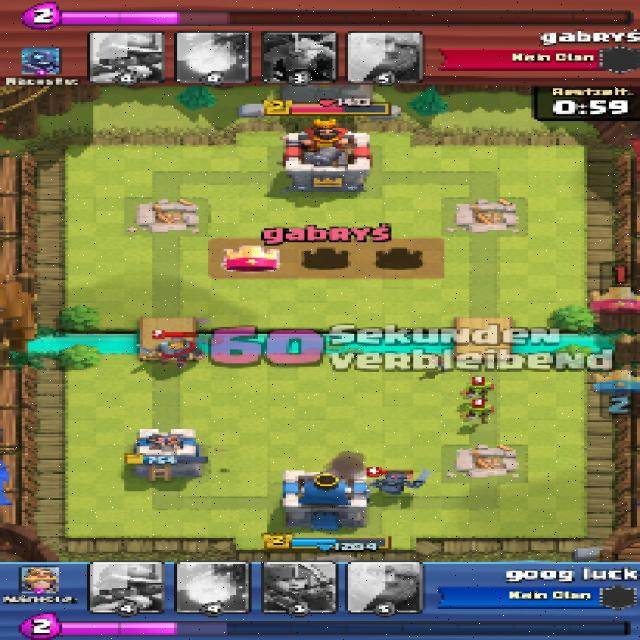Enemy-Goblin: (460, 400, 494, 422), (461, 381, 495, 400)
Enemy-Knight: (139, 336, 204, 362)
Enemy-MiniPEKKA: (368, 468, 432, 494)
